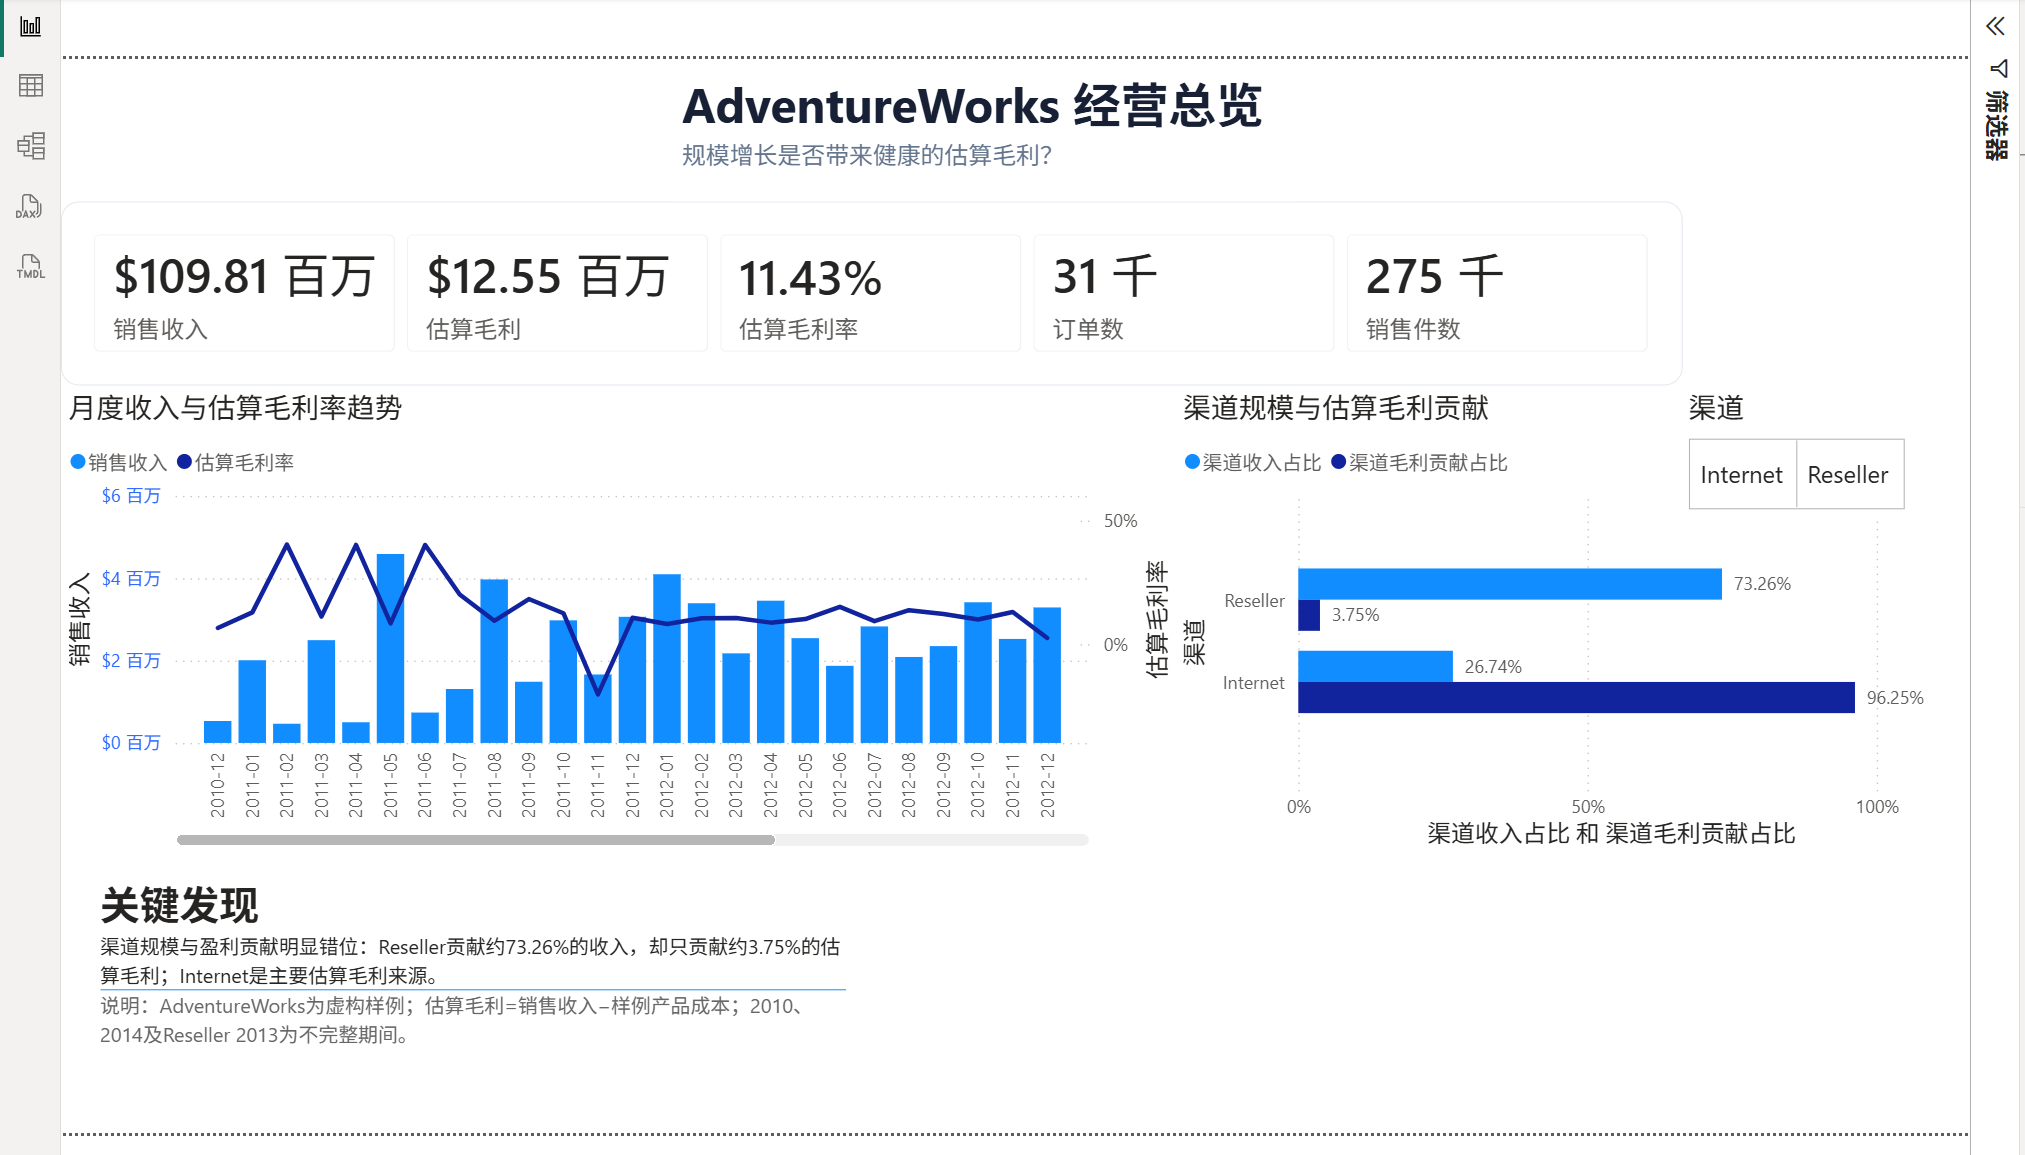

The dashboard page shown, as its layout file describes it:
{"tool":"powerbi","page":{"name":"经营总览","canvas":[1280,720],"ordinal":1},"visuals":[{"type":"lineClusteredColumnComboChart","title":"月度收入与估算毛利率趋势","fields":{"Category":["DimDate.year_month"],"Y":["FactSales.销售收入"],"Y2":["FactSales.估算毛利率"]},"box":[0,218.9,747.8,313.3],"z":0},{"type":"clusteredBarChart","title":"渠道规模与估算毛利贡献","fields":{"Category":["FactSales.channel"],"Y":["FactSales.渠道收入占比","FactSales.渠道毛利贡献占比"]},"box":[747.8,218.9,522.2,313.3],"z":1000},{"type":"textbox","box":[21.1,541.1,510,130],"z":2000},{"type":"advancedSlicerVisual","fields":{"Values":["FactSales.channel"]},"box":[1086.7,218.9,155,88],"z":3000},{"type":"cardVisual","fields":{"Data":["FactSales.销售收入","FactSales.估算毛利","FactSales.估算毛利率","FactSales.订单数","FactSales.销售件数"]},"box":[0,95.6,1087,123],"z":4000},{"type":"textbox","box":[411.1,0,415.6,95.6],"z":5000}]}

Visuals, with their boxes on the page's 1280x720 design canvas (x1, y1, x2, y2). These are canvas units, not pixel positions in the 2025x1155 screenshot, which may show the page scaled, cropped or inside an application window:
"月度收入与估算毛利率趋势" lineClusteredColumnComboChart: bbox(0, 219, 748, 532)
"渠道规模与估算毛利贡献" clusteredBarChart: bbox(748, 219, 1270, 532)
textbox: bbox(21, 541, 531, 671)
advancedSlicerVisual - FactSales.channel: bbox(1087, 219, 1242, 307)
cardVisual - FactSales.销售收入 x FactSales.估算毛利: bbox(0, 96, 1087, 219)
textbox: bbox(411, 0, 827, 96)
